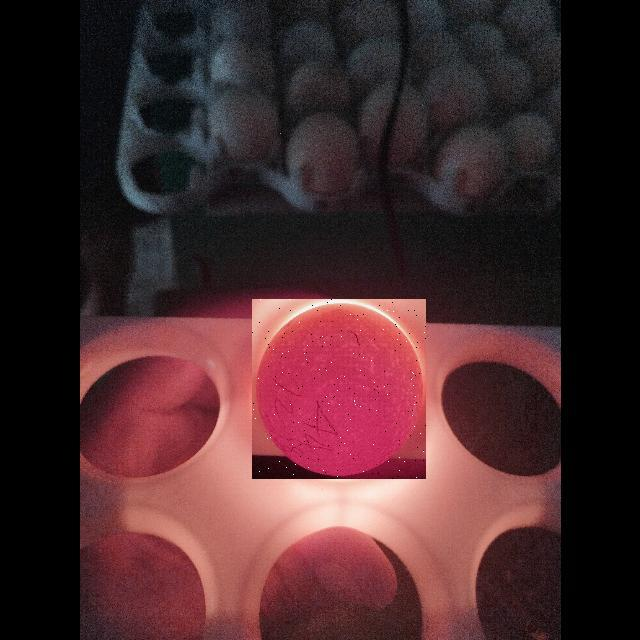Infertile: (252, 299, 426, 479)
